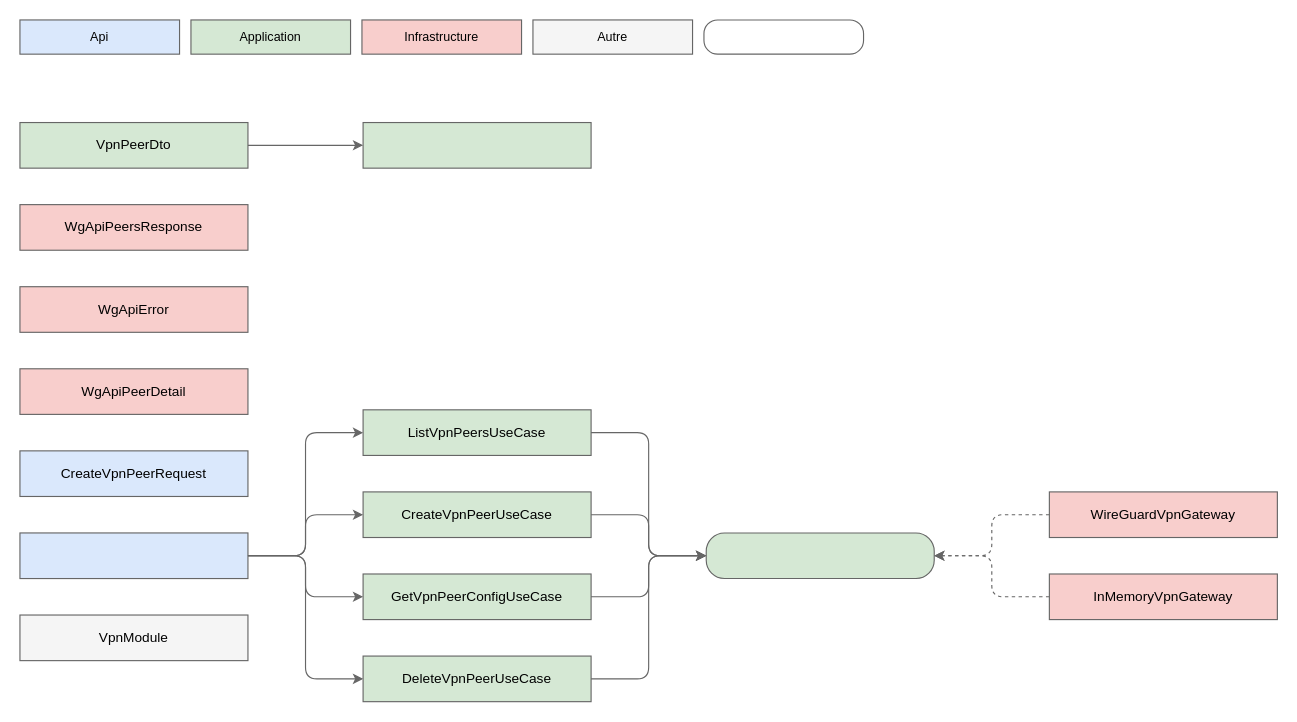
This 1297x722 diagram has some shape labels left out. The box of each missing label's shape, as (x1, y1, x2, y2) in pixels:
IVpnGateway: (705, 532, 934, 579)
PeerChecksDto: (362, 121, 591, 168)
Port (interface): (703, 19, 864, 54)
VpnController: (19, 532, 248, 579)
